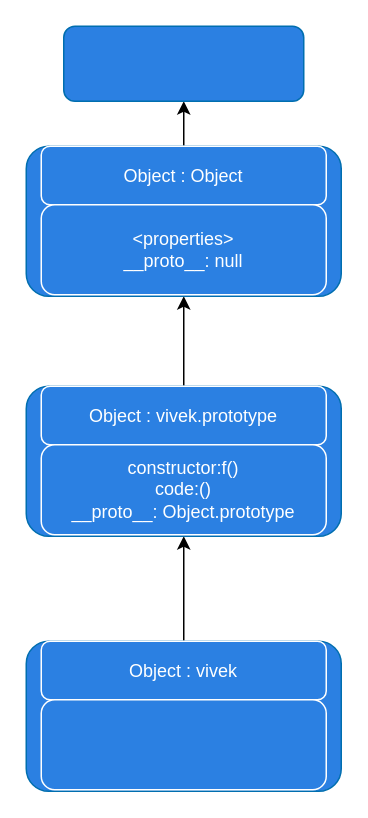
Image size: 368x818. Some labels were removed from this diagram. The centre of each missing label's shape, as x and y in pixels:
"NULL" belongs at point 183,63.
"x:1 y:2 __proto__: vivek.prototype" belongs at point 183,744.
